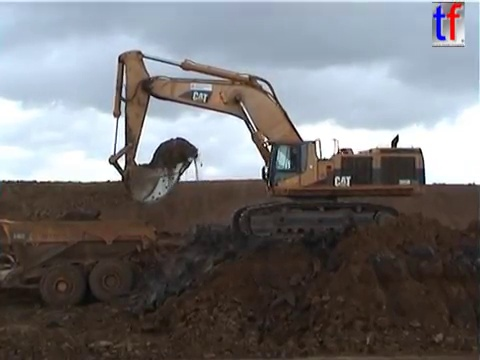excavator: (105, 47, 428, 243)
truck: (1, 215, 159, 308)
